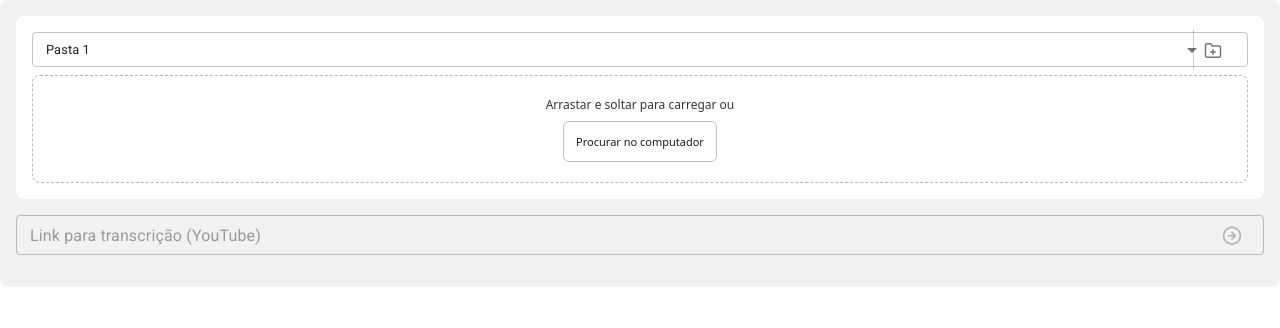
Test: UploadDropDown › YouTube Link functionality › should clear input when clicking X button
Type "https://www.creditas.com/aluguel-er" into the field with placeholder "Link para transcrição (YouTube)". click: (611, 235)
box: [16, 215, 1206, 255]
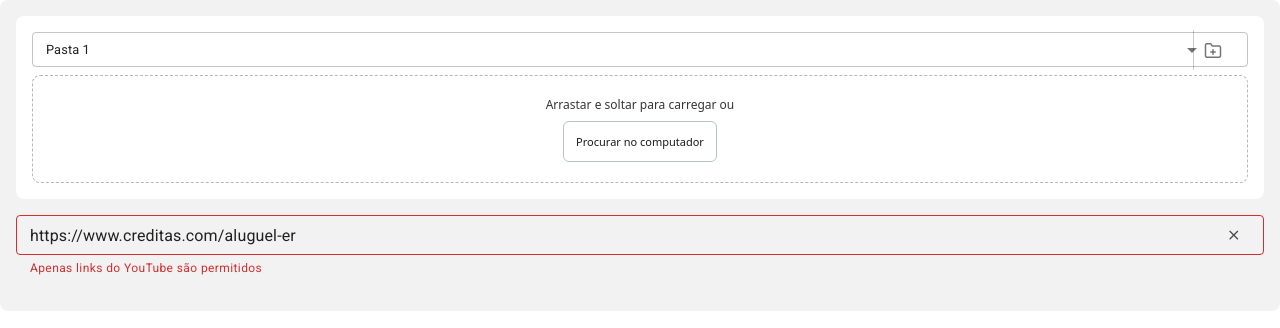
Click the button with test id "clear-button". click: (1234, 235)
box: [1218, 219, 1250, 251]
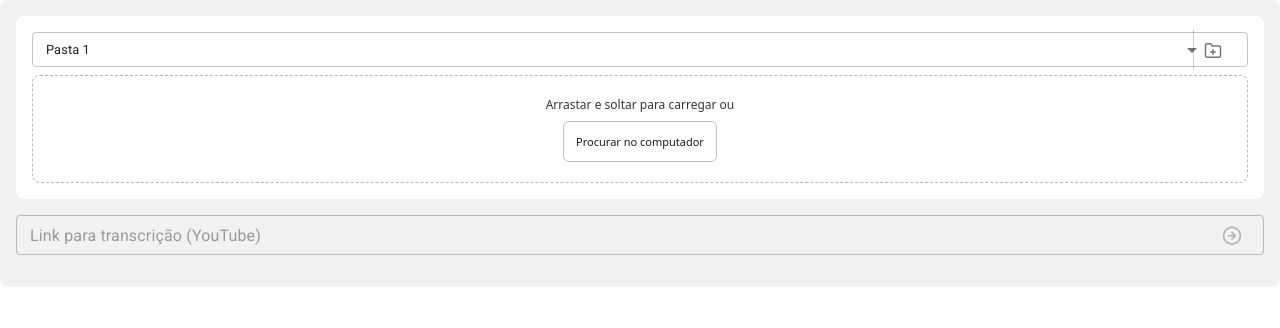
Check: the field with placeholder "Link para transcrição (YouTube)" is empty, box [16, 215, 1206, 255]
